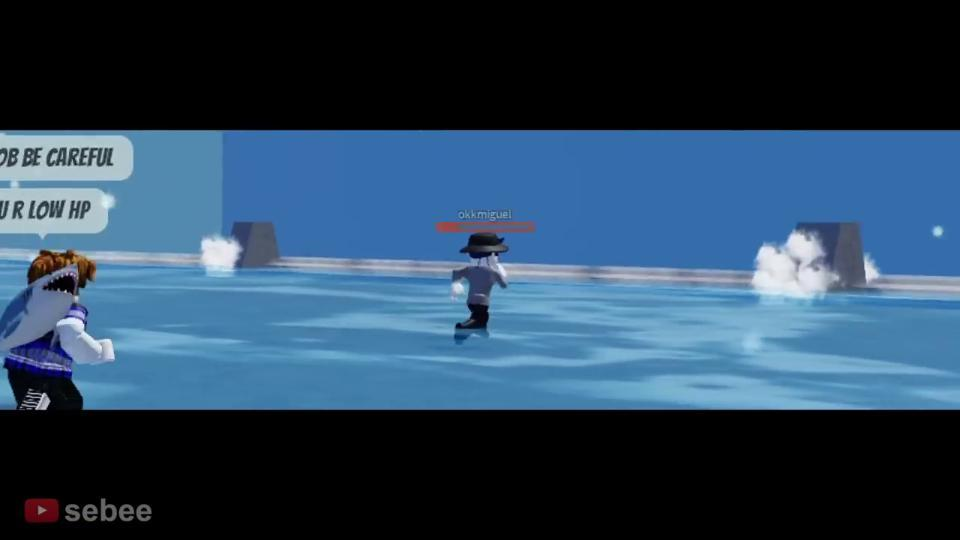Character: (3, 248, 115, 409), (450, 232, 510, 343)
